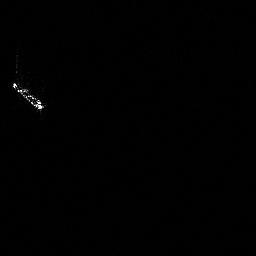ship: (9, 80, 48, 112)
